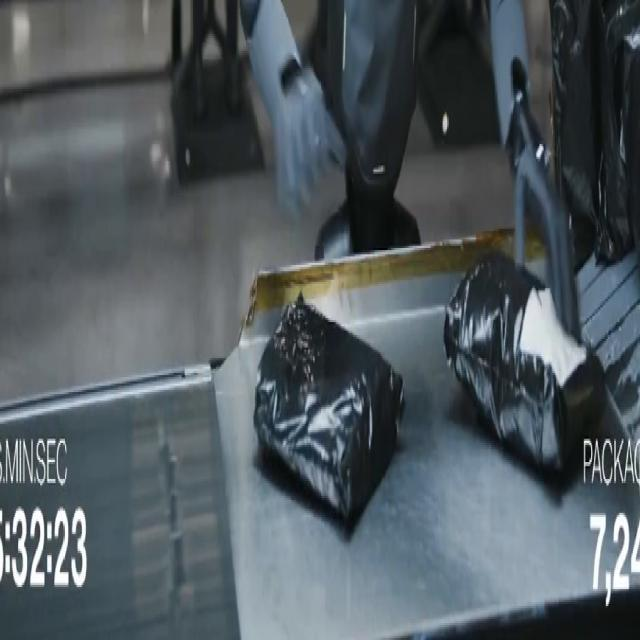package: (444, 253, 605, 472), (254, 295, 403, 521), (550, 0, 632, 262), (550, 0, 600, 256), (594, 0, 639, 262), (623, 17, 639, 264)
